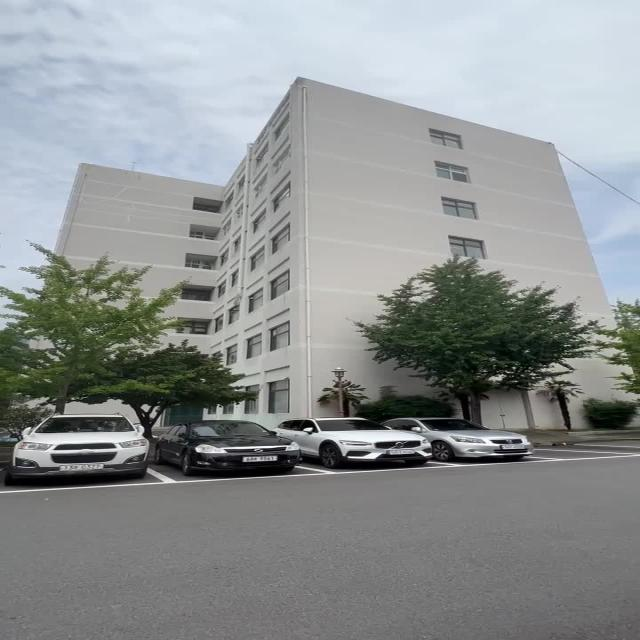building: (46, 84, 578, 267)
